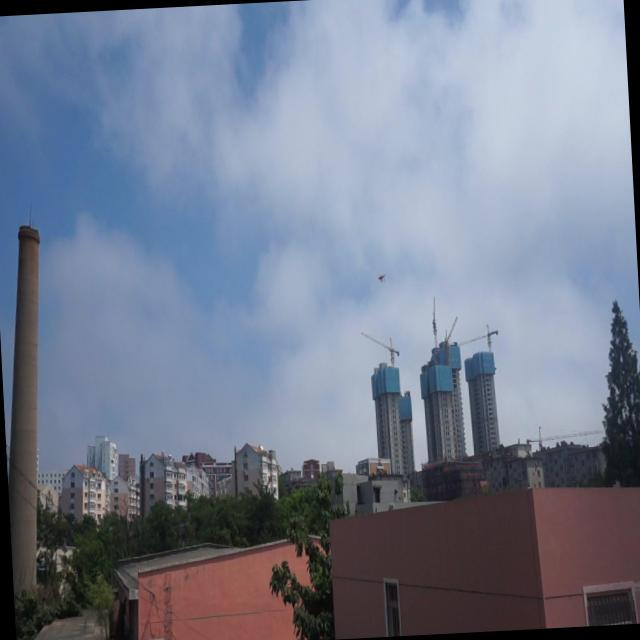drone: (375, 268, 388, 288)
